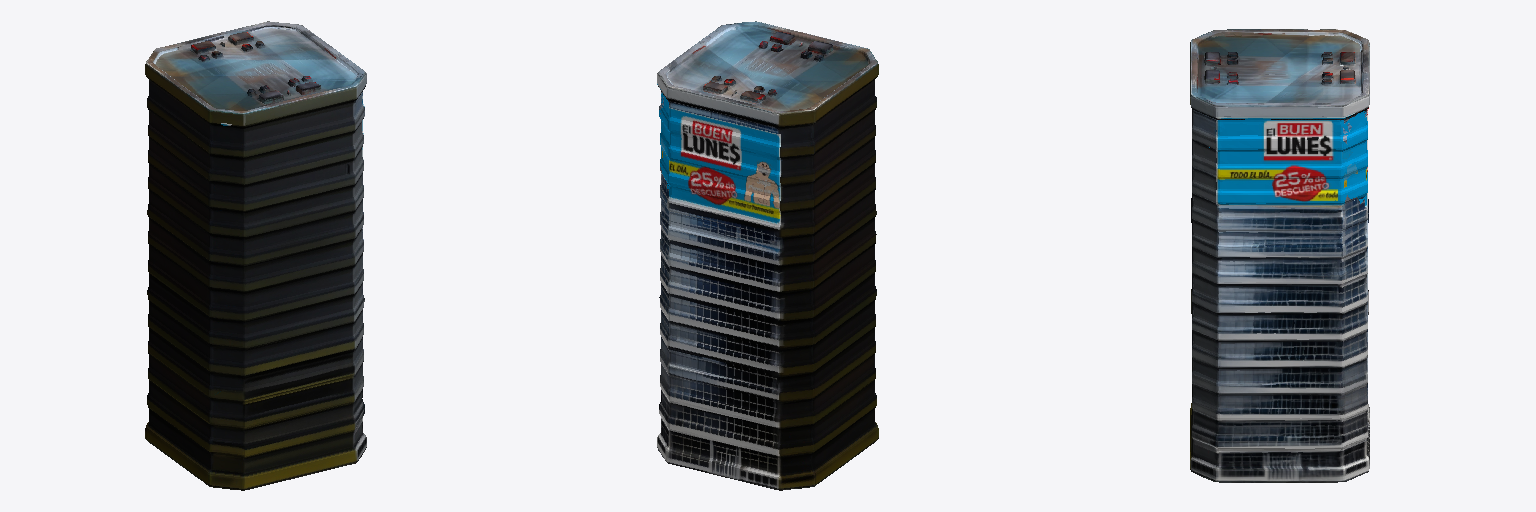
3 renders of one model, left to right at view 1: azimuth 30°, elevation 25°; view 2: azimuth 150°, elevation 25°; view 3: azimuth 270°, elevation 25°, orthographic.
Parts seen in each view (by area): view 1: Mesh_0; view 2: Mesh_0; view 3: Mesh_0.
Boxes of the visible parts, x1=… form: Mesh_0: x1=145, y1=21, x2=366, y2=490; Mesh_0: x1=657, y1=21, x2=878, y2=490; Mesh_0: x1=1190, y1=29, x2=1369, y2=482.
Bounding box in the file's own units: 0.8647 × 2.01 × 0.8522.
1 materials, 1 textured.